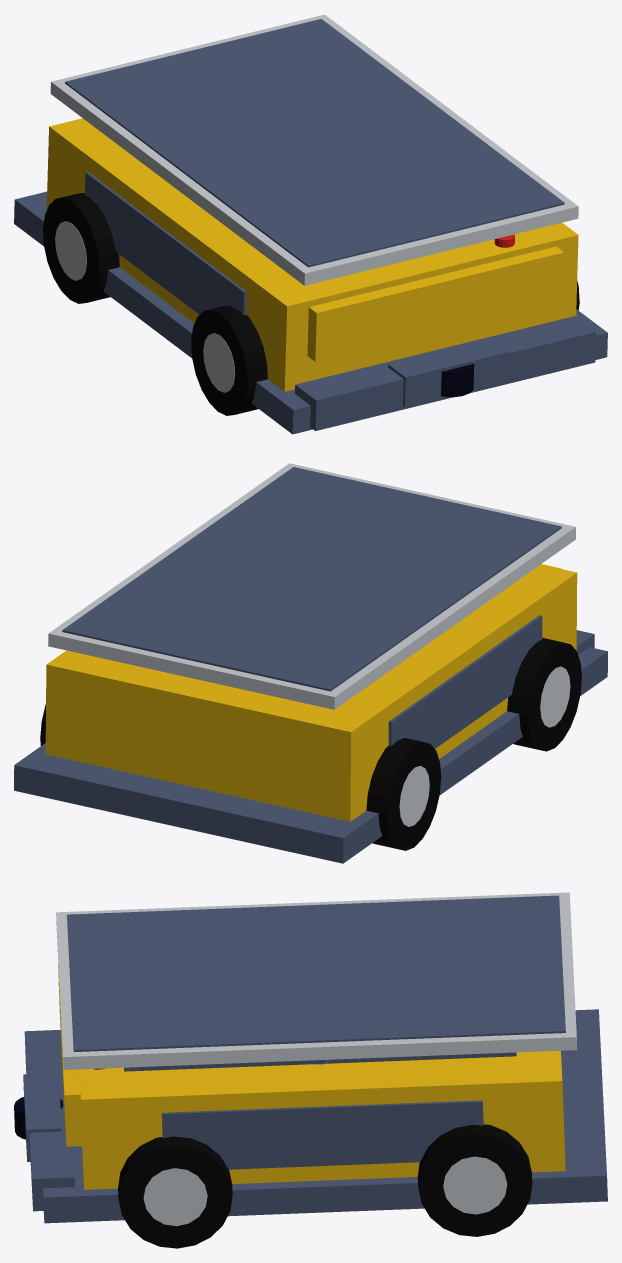
Rendered from robot.obj.
3 views of the same model, one above another, from view 1: azimuth 30°, elevation 25°; view 2: azimuth 150°, elevation 25°; view 3: azimuth 270°, elevation 25° (orthographic). The views are drawn at different scales.
Visible parts, largest first — view 1: Robot; view 2: Robot; view 3: Robot.
Boxes of the visible parts, x1,y1,x2,y2 form: Robot: (14,14,607,434); Robot: (14,463,607,863); Robot: (14,892,607,1248).
Bounding box in the file's own units: 1.16 × 0.6126 × 1.66.
